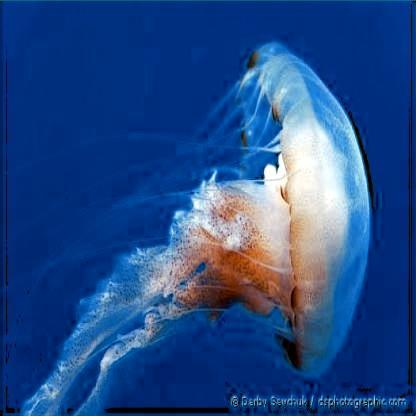Mosaic: (46, 42, 374, 402)
